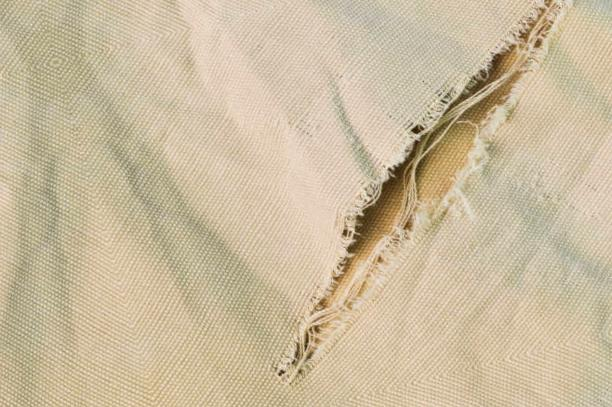hole: (258, 2, 582, 386)
